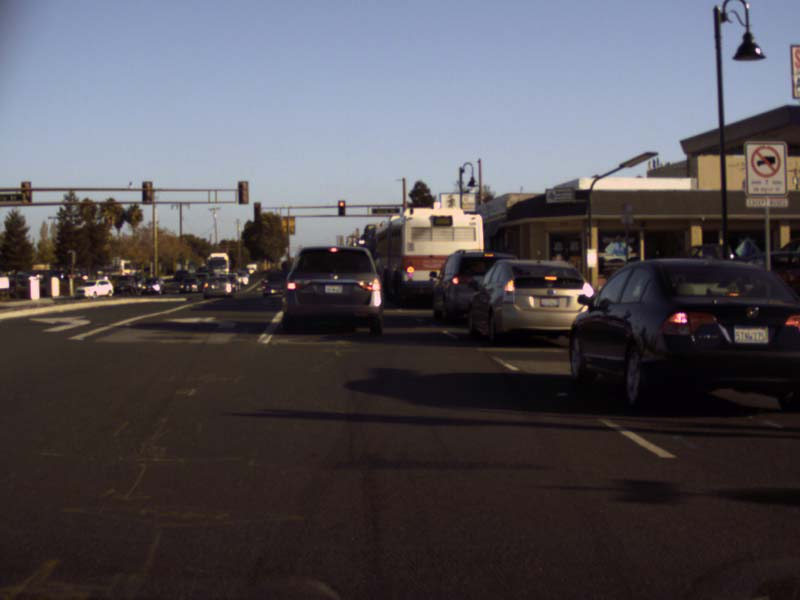Red: (253, 201, 261, 220), (337, 200, 345, 215)
